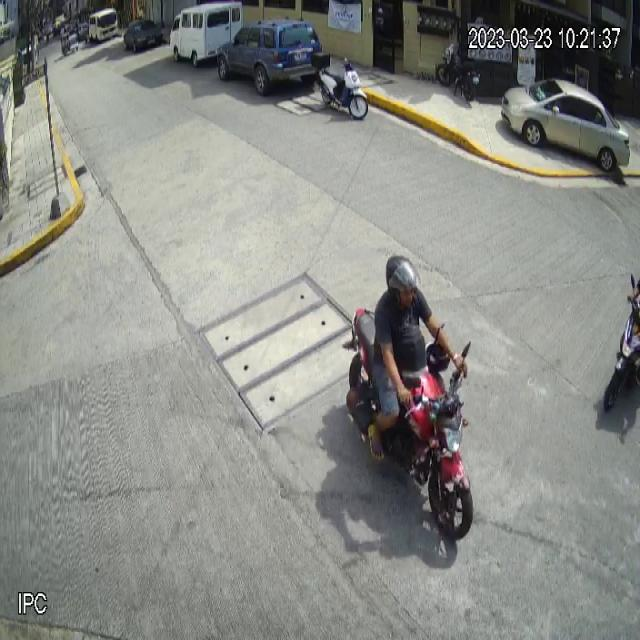Car: (501, 79, 631, 172), (216, 16, 322, 96)
Motorcycle: (346, 306, 474, 540), (311, 51, 368, 121)
Van: (169, 0, 243, 67)
